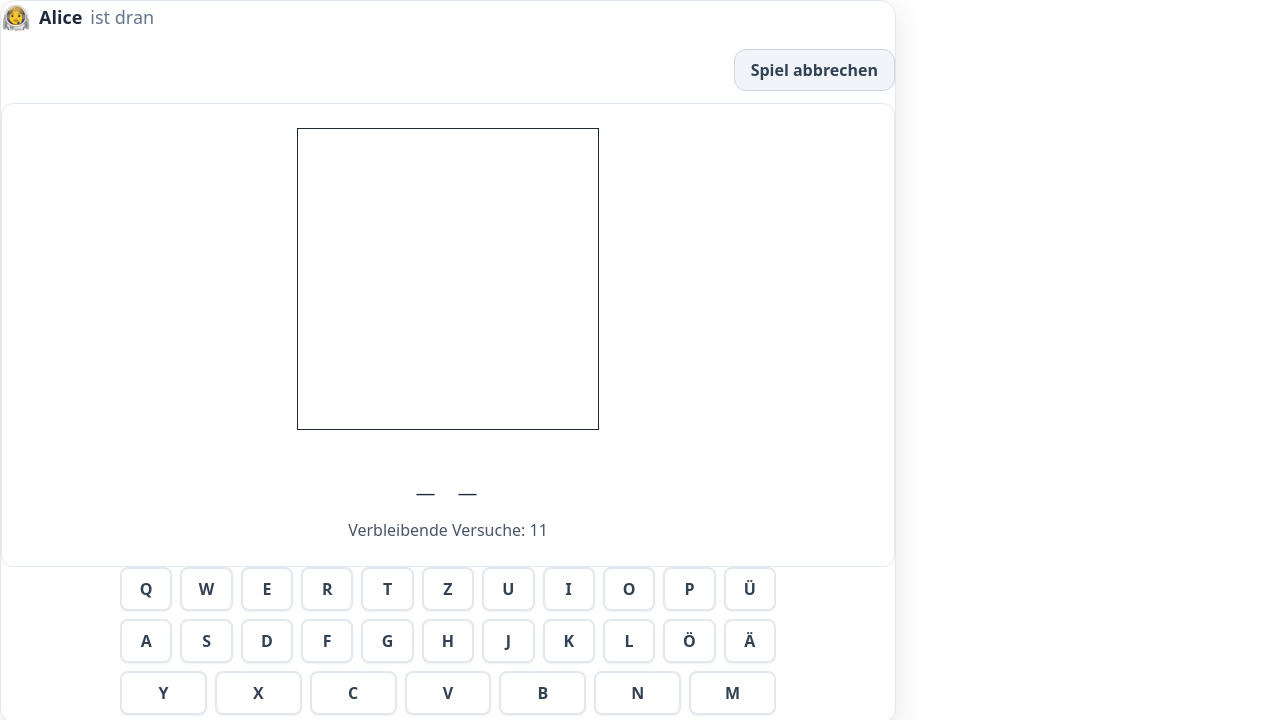
MultiplayerGame overlay and flow › shows overlay on wrong guess and hands over to next player on Weiter
This screenshot has width=1280, height=720.
// Wrong guess: C is not in "AB"
Click the button named "Buchstabe C" at (353, 693), box x1=310 y1=671 x2=397 y2=715
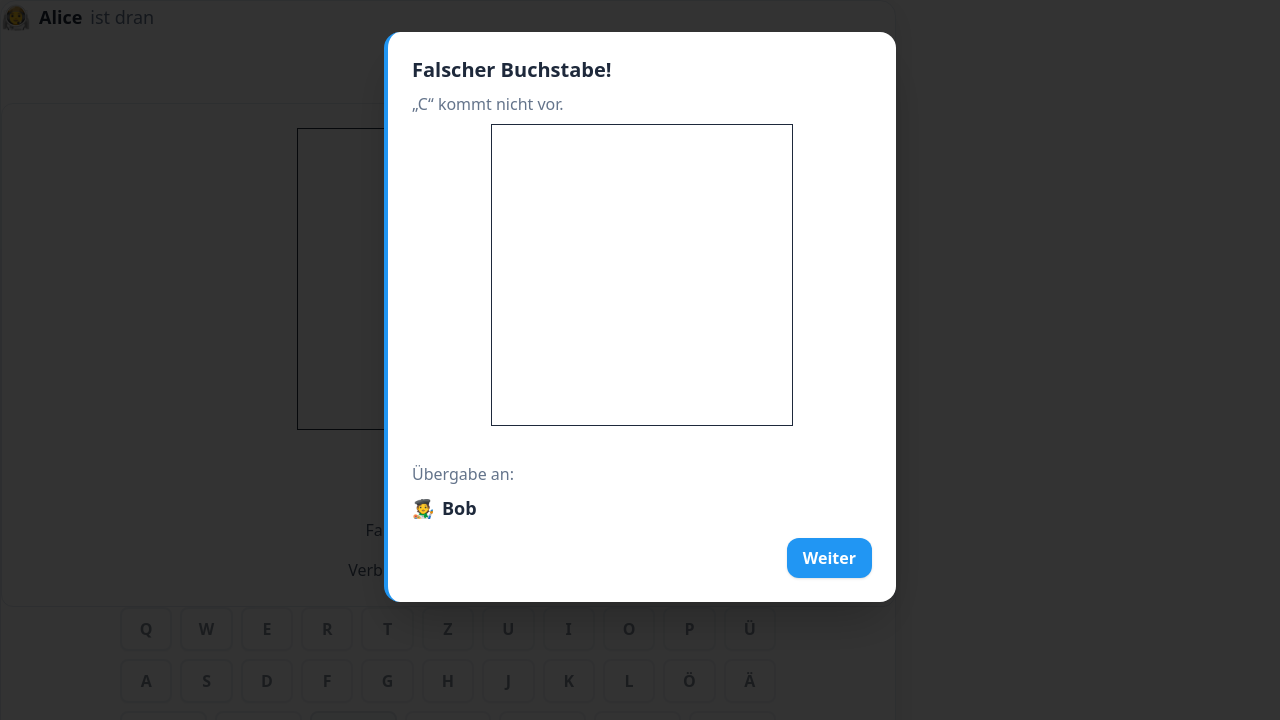
Expected: the heading "Falscher Buchstabe!" is shown, x1=412 y1=56 x2=612 y2=83
Expected: the text "Übergabe an:" is shown, x1=412 y1=463 x2=514 y2=485
Expected: the text "Bob" is shown, x1=442 y1=494 x2=477 y2=522
Click the button "Weiter" at (829, 558), box x1=787 y1=538 x2=872 y2=578
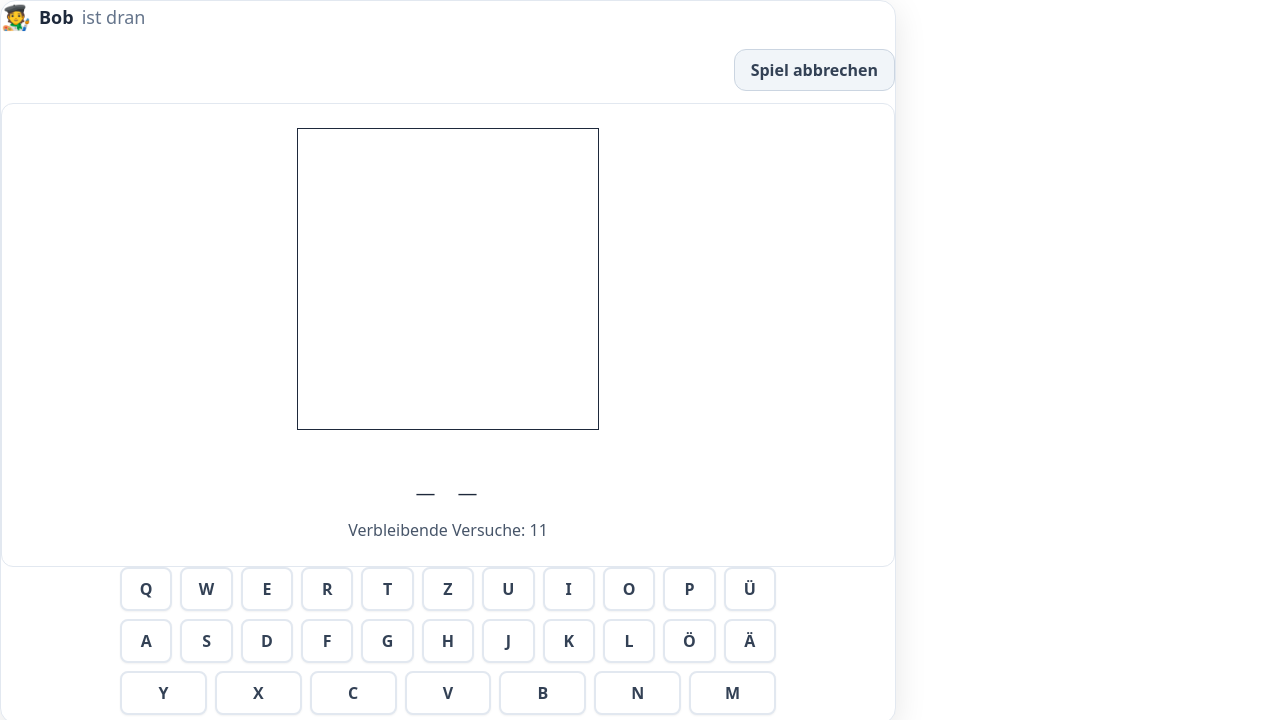
Expected: the text "Bob" is shown, x1=39 y1=3 x2=74 y2=31
